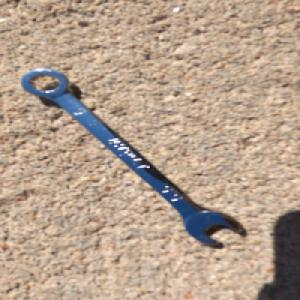Wrench: (20, 66, 248, 248)
